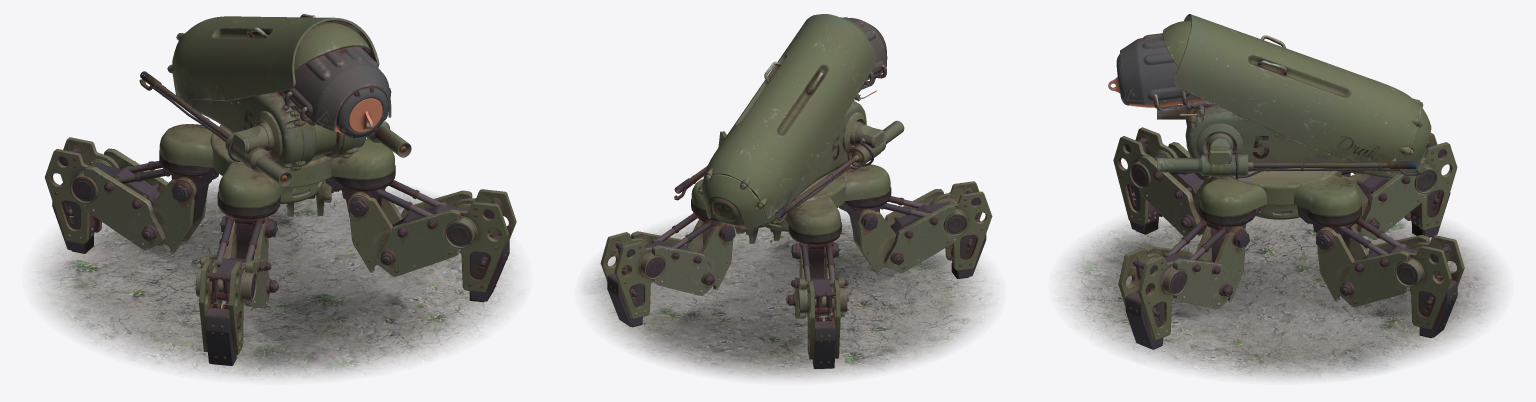
The model's file is flamethrower-drone.glb.
3 renders of one model, left to right at view 1: azimuth 30°, elevation 25°; view 2: azimuth 150°, elevation 25°; view 3: azimuth 270°, elevation 25°, orthographic. The views are drawn at different scales.
Parts seen in each view (by area): view 1: Body, Ground Plane; view 2: Body, Ground Plane; view 3: Body, Ground Plane.
Part boxes in pixels (left/top/right/bottom): Body: left=44, top=14, right=516, bottom=365; Ground Plane: left=33, top=176, right=521, bottom=380; Body: left=600, top=14, right=992, bottom=368; Ground Plane: left=584, top=209, right=997, bottom=380; Body: left=1108, top=14, right=1464, bottom=349; Ground Plane: left=1058, top=216, right=1503, bottom=380.
Bounding box in the file's own units: 15.08 × 9.3 × 15.08.
2 materials, 2 textured.
